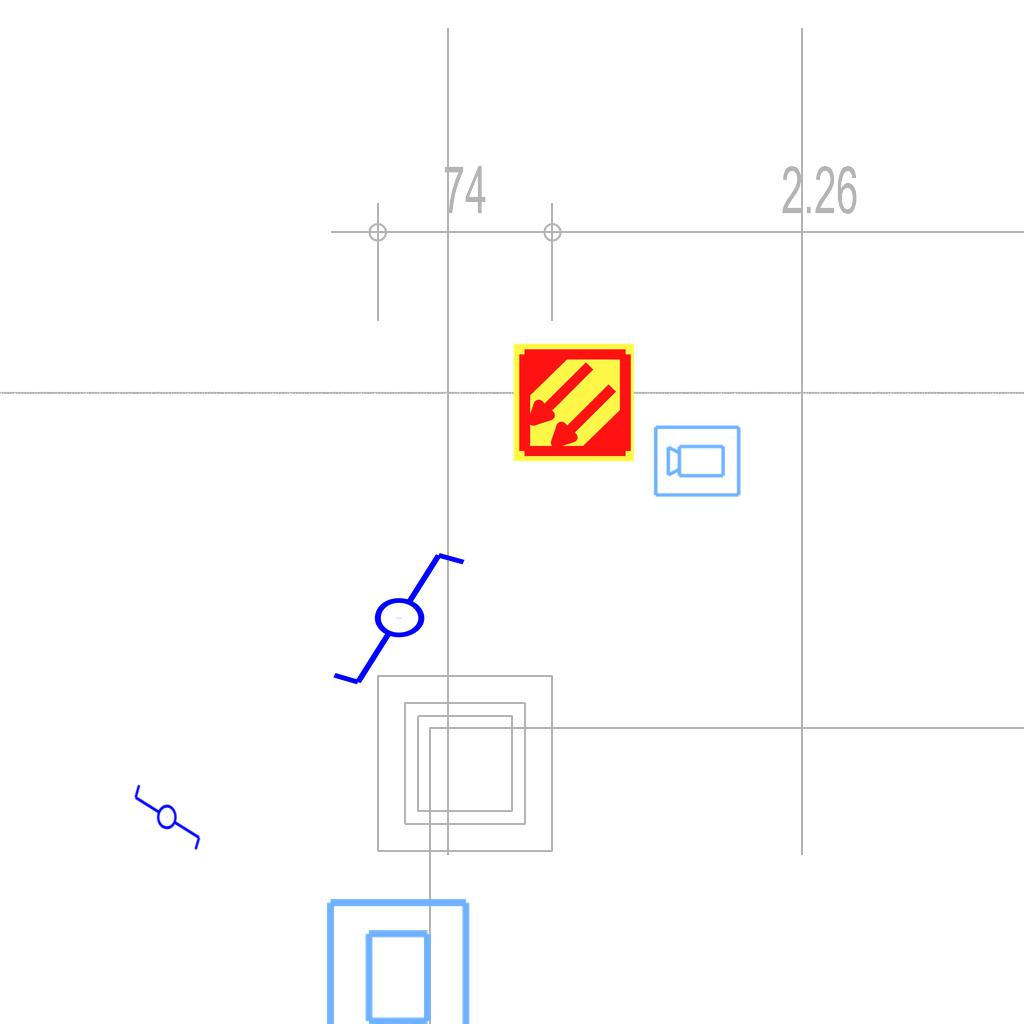ASR_Ansaugrauchmelder: (511, 340, 636, 465)
KFO_Kamera_mit_Festobjektiv: (320, 894, 474, 1024), (652, 422, 743, 499)
Wechselschalter: (329, 548, 486, 692), (132, 774, 204, 852)
